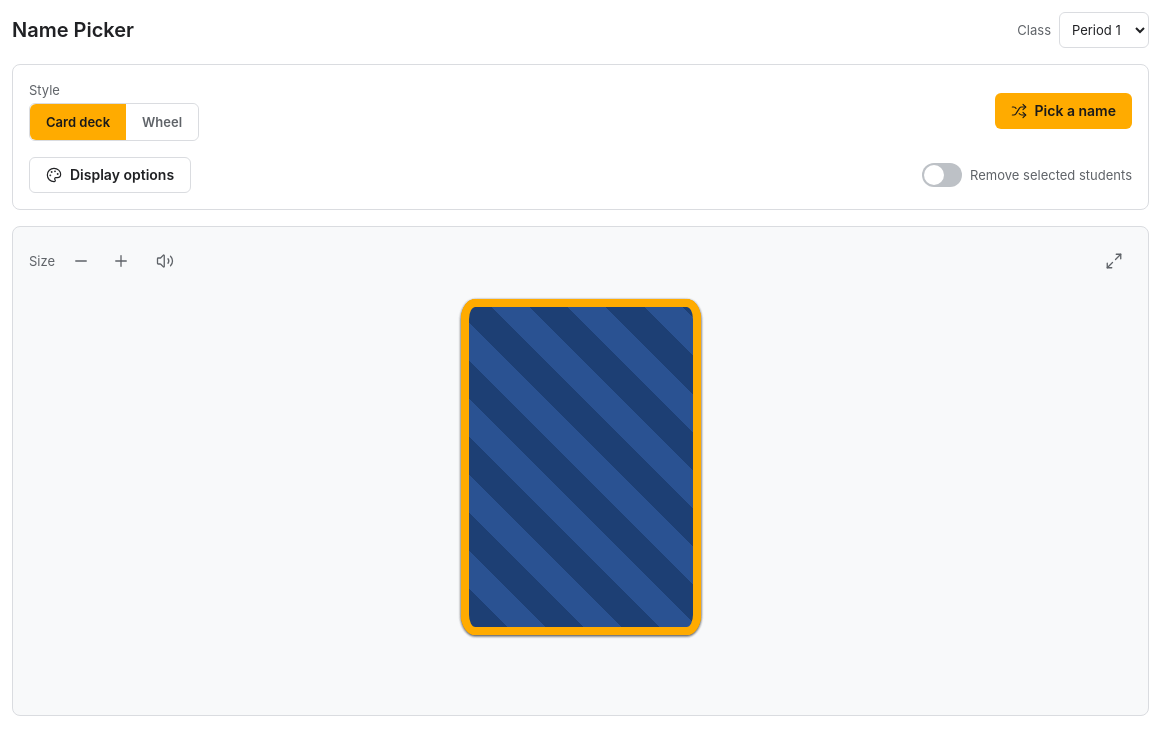
Test: NamePickerPage › keeps the Selected caption after Reset
Check: the button "Pick a name" is shown, box [995,93,1132,129]
Click the switch named "Remove selected students": (942, 175) [922,163,962,187]
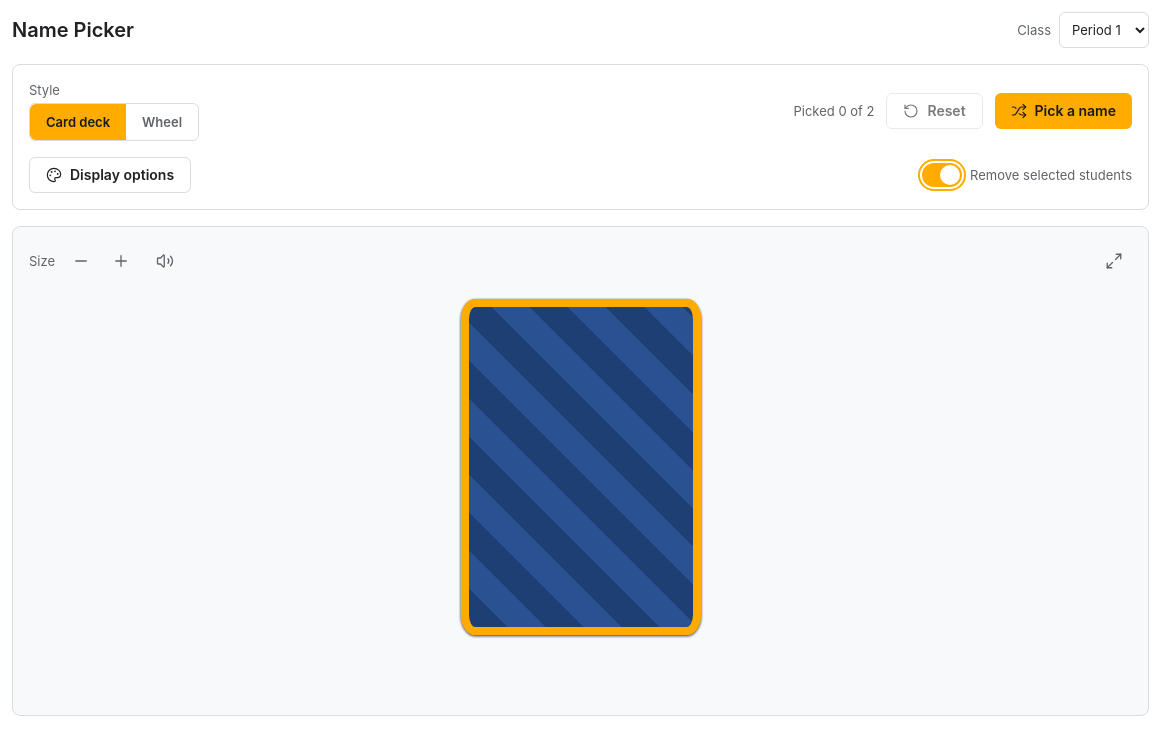
Click the button "Pick a name": (1063, 111) [995,93,1132,129]
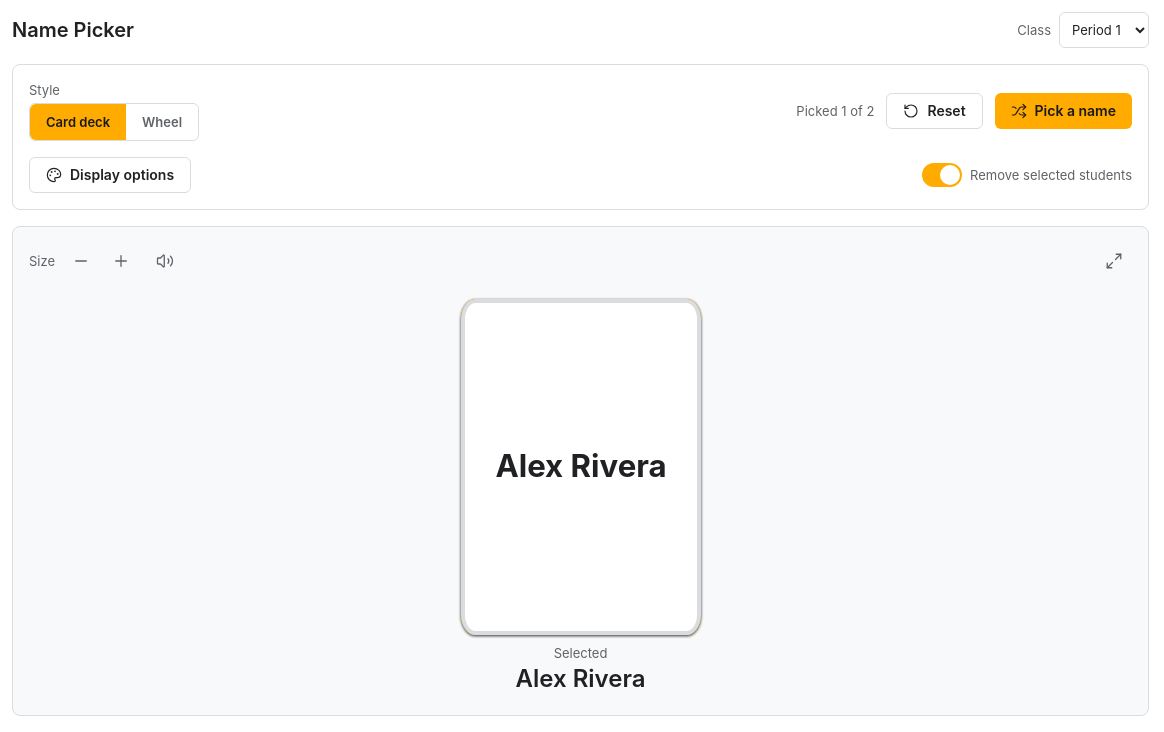
Click the button "Reset": (934, 111) [886,93,983,129]
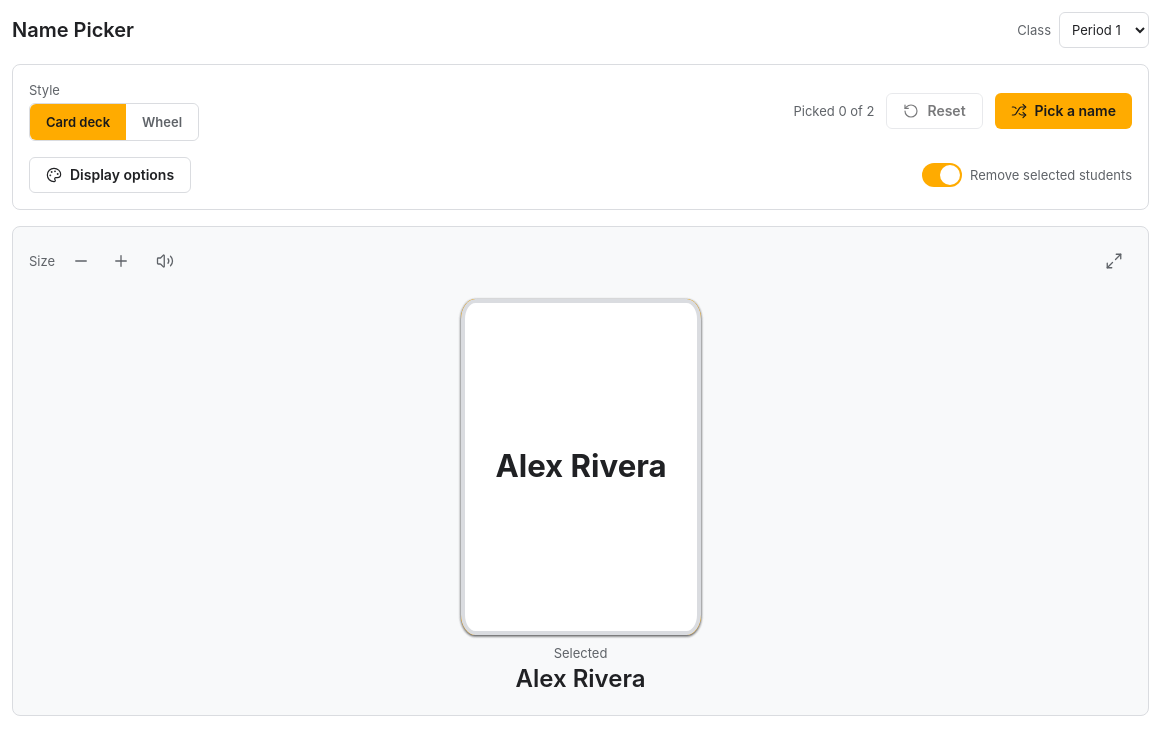
Check: the 1st text "Alex Rivera" is shown, box [460,299,700,635]
Check: the text "Picked 0 of 2" is shown, box [794,102,874,120]
